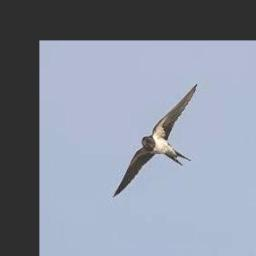Swallow: (113, 83, 199, 199)
